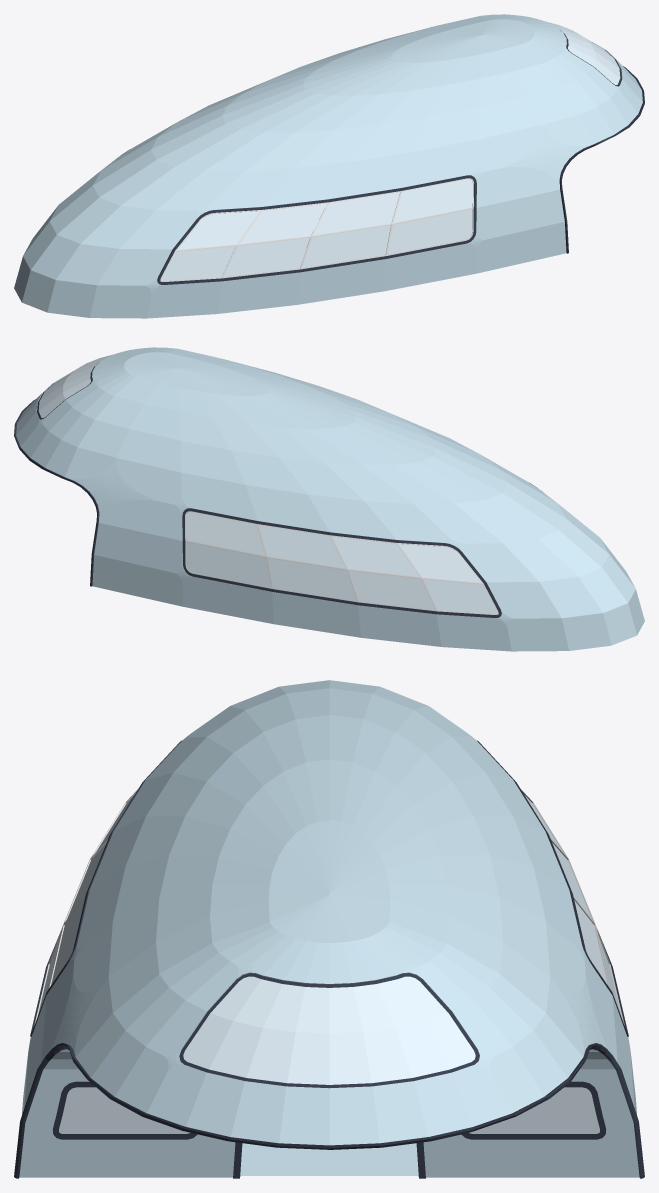
The model's file is Windhouse_02_open.fbx.
The picture shows the model from 3 angles, top to bottom: view 1: azimuth 30°, elevation 25°; view 2: azimuth 150°, elevation 25°; view 3: azimuth 270°, elevation 25°; orthographic projection. The views are drawn at different scales.
Parts seen in each view (by area): view 1: Wind-House; view 2: Wind-House; view 3: Wind-House, Windows-Outside, House_Wall-inside.
Part boxes in pixels (box(x1,y1,x2,y2)): Wind-House: box(14, 14, 644, 318); Wind-House: box(14, 347, 644, 651); Wind-House: box(14, 680, 644, 1178); Windows-Outside: box(52, 1081, 606, 1139); House_Wall-inside: box(240, 1143, 418, 1175).
Size of the model in its own units: 1628 by 400 by 808.
